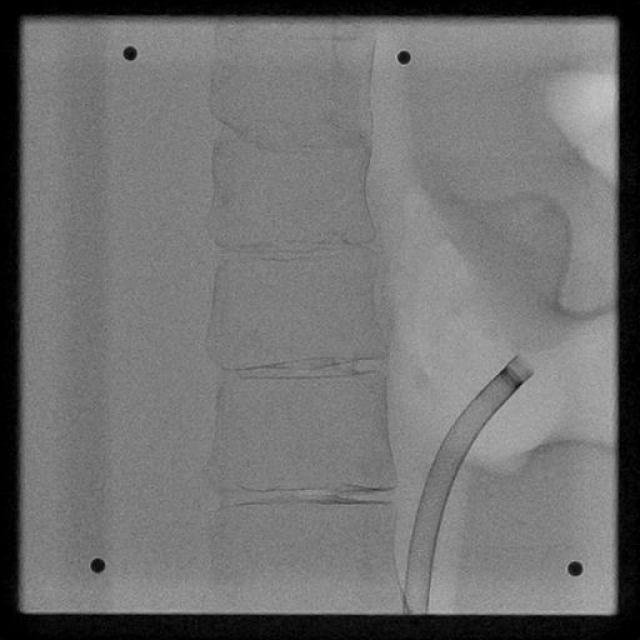bend: (404, 589, 428, 603)
entry: (404, 607, 426, 613)
marker: (497, 368, 523, 392)
tip: (516, 356, 536, 374)
